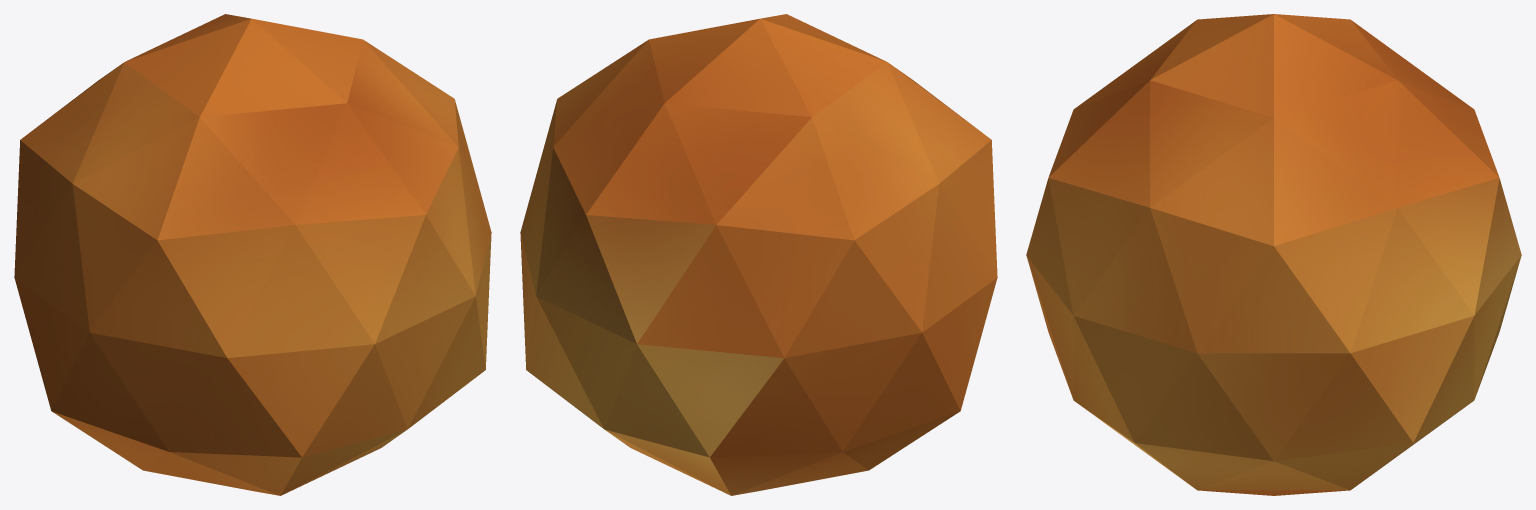
File: mars.fbx
The picture shows the model from 3 angles, left to right: view 1: azimuth 30°, elevation 25°; view 2: azimuth 150°, elevation 25°; view 3: azimuth 270°, elevation 25°; orthographic projection.
Parts seen in each view (by area): view 1: pSolid1; view 2: pSolid1; view 3: pSolid1.
Part boxes in pixels (x1,y1,x2,y2): pSolid1: [14, 14, 491, 495]; pSolid1: [520, 14, 997, 495]; pSolid1: [1026, 14, 1521, 495].
Bounding box in the file's own units: 16.52 × 18.53 × 17.3.
